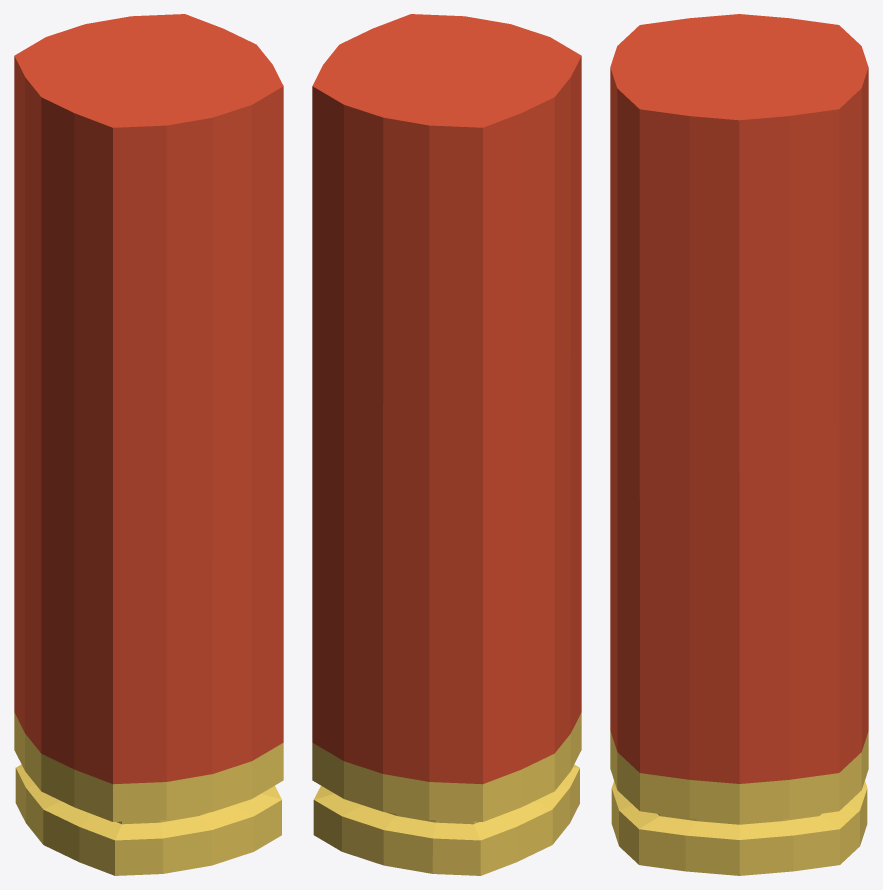
The model's file is Spas_12_shotgun_shell.fbx.
The picture shows the model from 3 angles, left to right: view 1: azimuth 30°, elevation 25°; view 2: azimuth 150°, elevation 25°; view 3: azimuth 270°, elevation 25°; orthographic projection.
Visible parts, largest first — view 1: shotgun_shell; view 2: shotgun_shell; view 3: shotgun_shell.
Part boxes in pixels (bbox=[...]): shotgun_shell: bbox=[14, 14, 283, 875]; shotgun_shell: bbox=[312, 14, 581, 875]; shotgun_shell: bbox=[610, 14, 868, 875].
Size of the model in its own units: 11.46 by 38.05 by 11.77.
